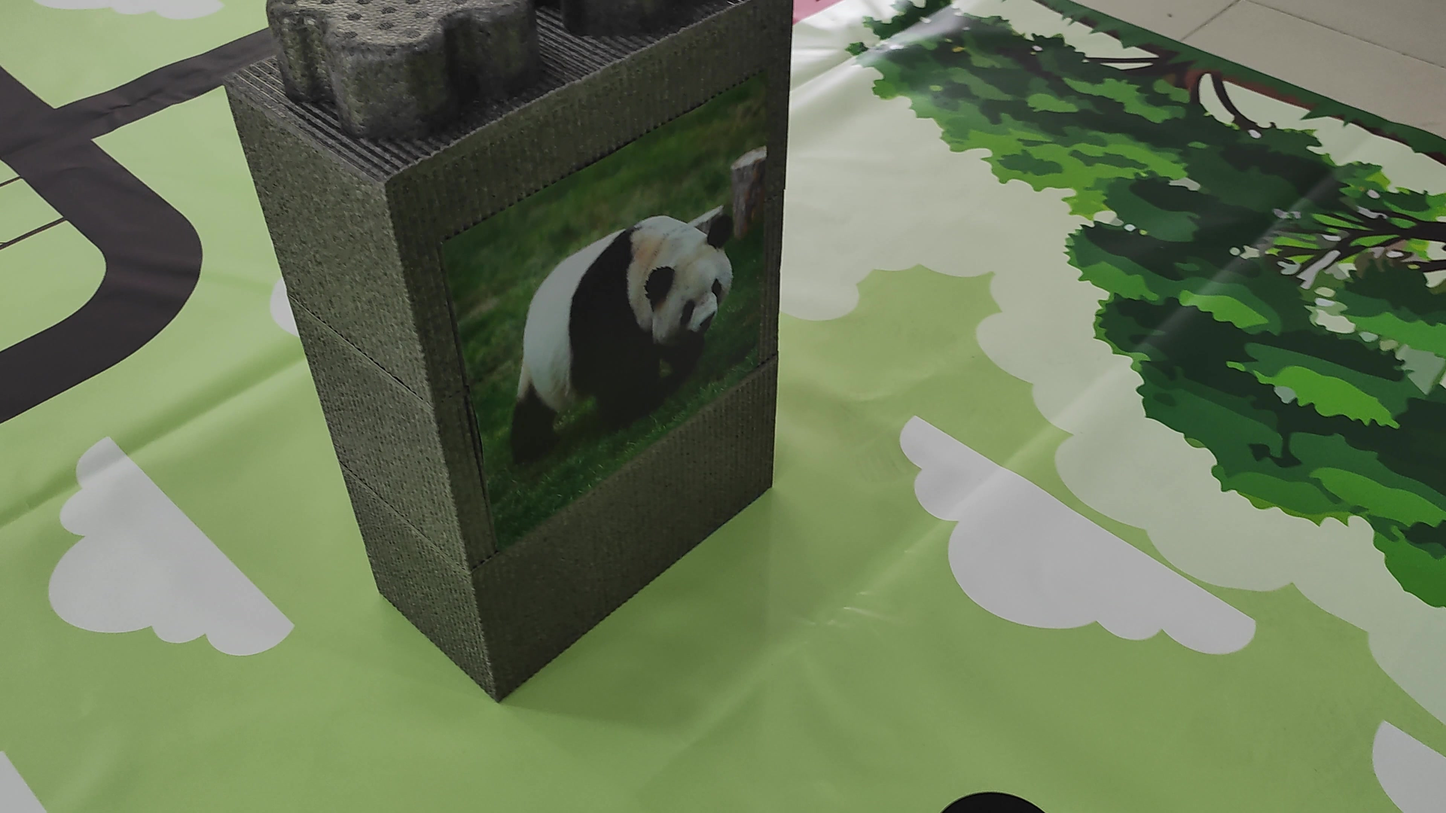panda: (468, 153, 772, 480)
